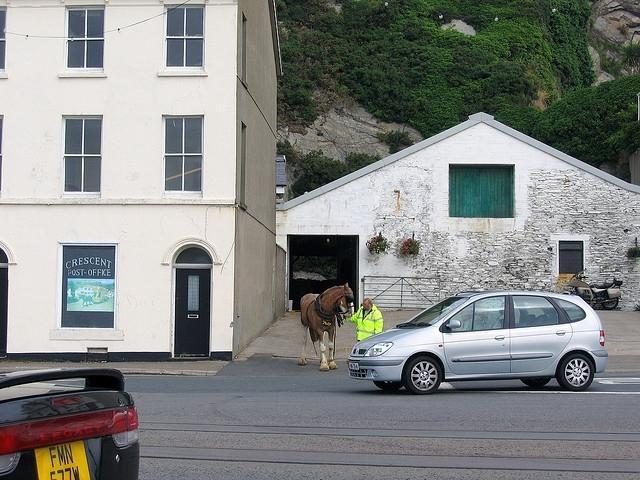car: (350, 288, 608, 395), (1, 362, 142, 474)
motorcycle: (562, 271, 626, 313)
